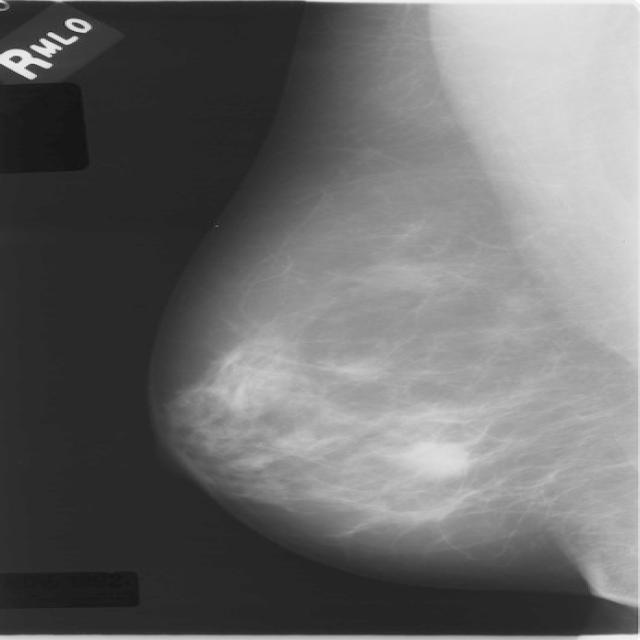tumour: (390, 441, 472, 480)
